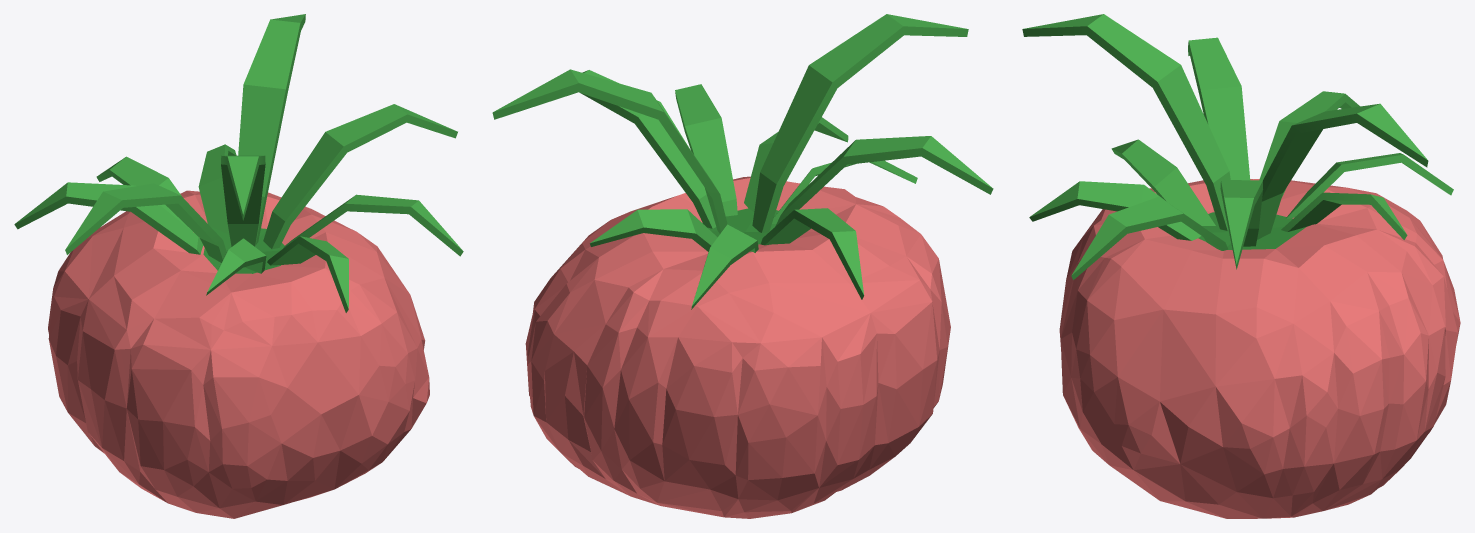
The model's file is fantasy_plant_060.fbx.
3 views of the same model, side by side, from view 1: azimuth 30°, elevation 25°; view 2: azimuth 150°, elevation 25°; view 3: azimuth 270°, elevation 25° (orthographic). The views are drawn at different scales.
Parts seen in each view (by area): view 1: fantasy_plant.060; view 2: fantasy_plant.060; view 3: fantasy_plant.060.
Boxes of the visible parts, bbox=[...] form: fantasy_plant.060: bbox=[14, 14, 463, 518]; fantasy_plant.060: bbox=[492, 14, 993, 518]; fantasy_plant.060: bbox=[1022, 14, 1460, 518].
Bounding box in the file's own units: 164 × 149 × 140.
1 material, 1 textured.
